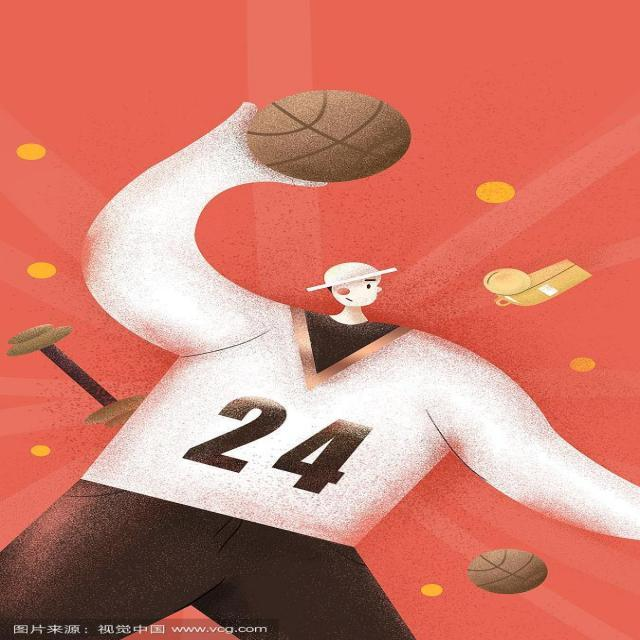rim: (256, 91, 409, 180)
